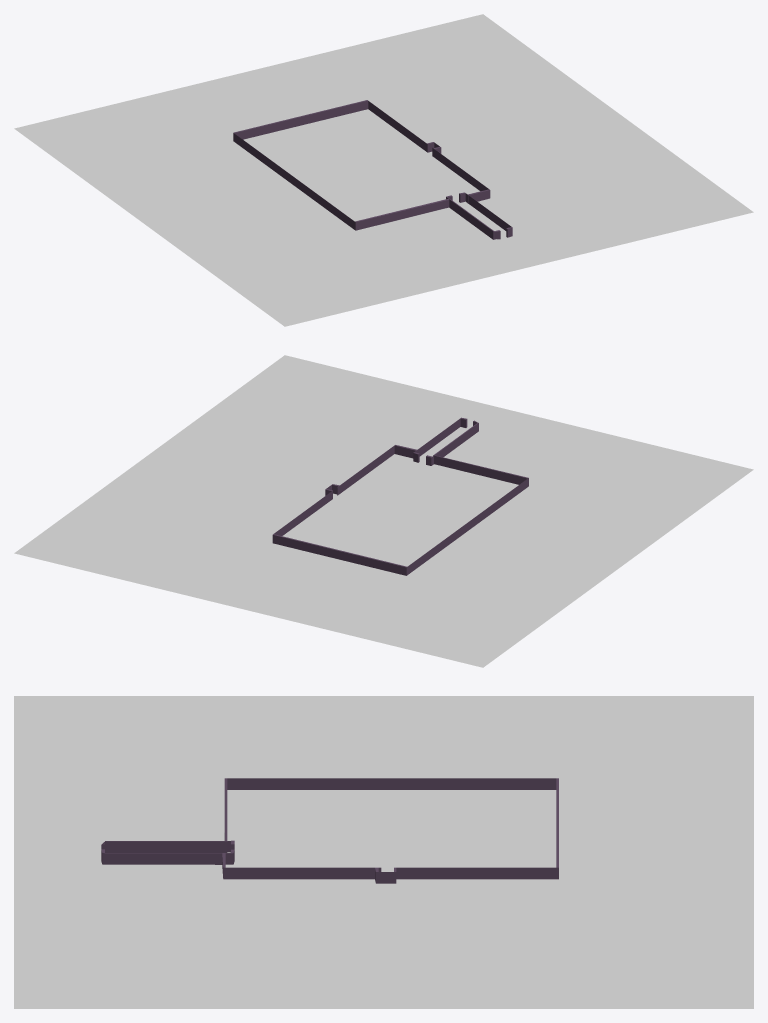
File: Garagem.fbx
3 renders of one model, top to bottom at view 1: azimuth 30°, elevation 25°; view 2: azimuth 150°, elevation 25°; view 3: azimuth 270°, elevation 25°, orthographic. The views are drawn at different scales.
Parts seen in each view (by area): view 1: Floor, LEvel2; view 2: Floor, LEvel2; view 3: Floor, LEvel2.
Boxes of the visible parts, bbox=[...] form: Floor: bbox=[14, 14, 753, 326]; LEvel2: bbox=[233, 100, 512, 239]; Floor: bbox=[14, 355, 753, 667]; LEvel2: bbox=[272, 417, 528, 575]; Floor: bbox=[14, 696, 753, 1008]; LEvel2: bbox=[101, 778, 558, 883].
Size of the model in its own units: 28189 by 693 by 28189.
